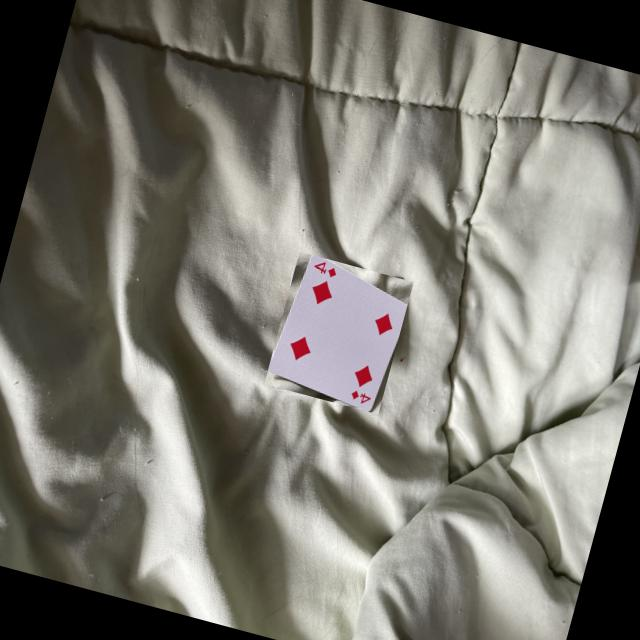4 of diamonds: (267, 255, 404, 410)
